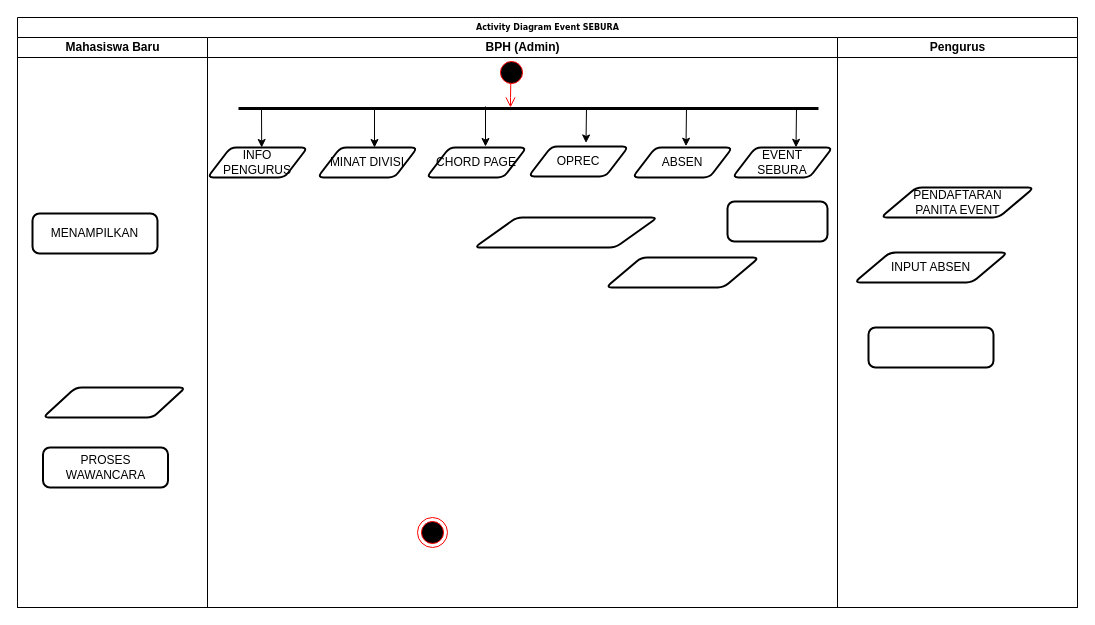
The diagram is 1095 pixels wide and 625 high, and some of its shapes have lost their labels. Here are the shapes that lost their labels. From the top down, the centre of each, then its label:
At point 565,232: "FORM PENDAFTARAN".
At point 777,221: "MENAMPILKAN EVENT".
At point 682,272: "LOGIN".
At point 930,347: "PROSES".
At point 114,402: "MENDAFTAR".
